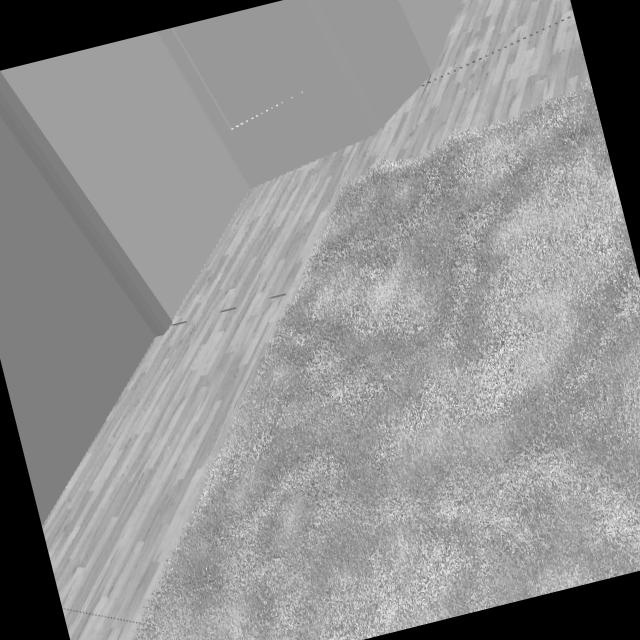shower: (156, 0, 461, 187)
